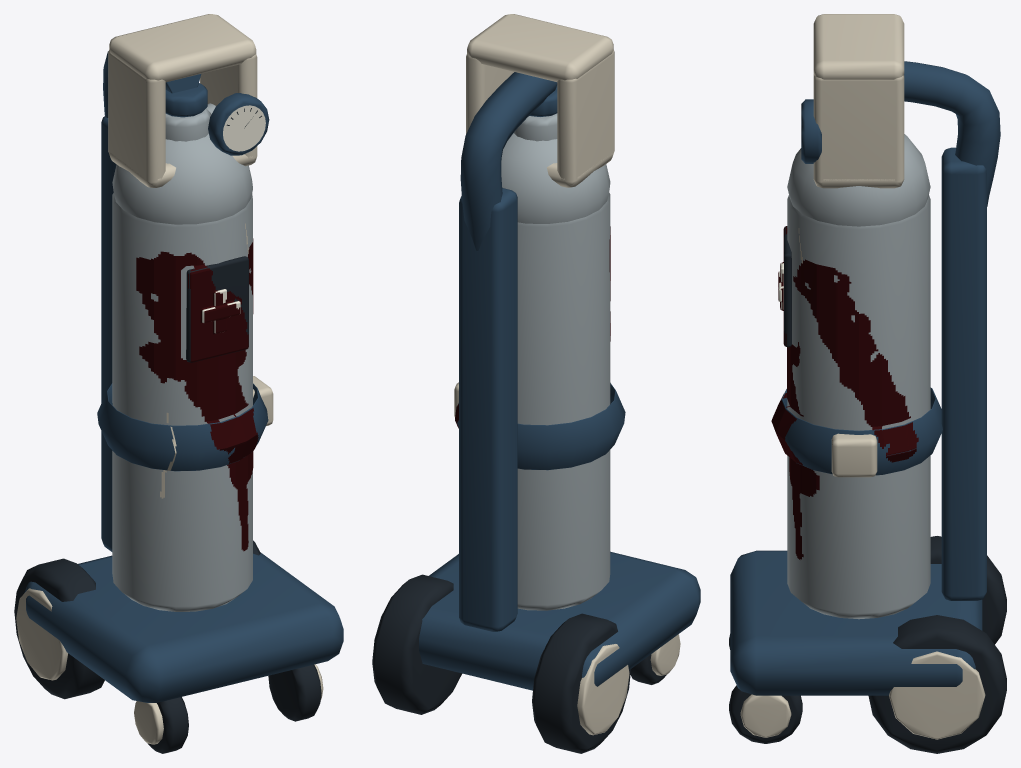
Rendered from medical_gas_cylinder.glb.
3 renders of one model, left to right at view 1: azimuth 30°, elevation 25°; view 2: azimuth 150°, elevation 25°; view 3: azimuth 270°, elevation 25°, orthographic.
Parts seen in each view (by area): view 1: medical_gas_cylinder_Outbreak_Static; view 2: medical_gas_cylinder_Outbreak_Static; view 3: medical_gas_cylinder_Outbreak_Static.
Part boxes in pixels (x1,y1,x2,y2): medical_gas_cylinder_Outbreak_Static: (14, 14, 343, 753); medical_gas_cylinder_Outbreak_Static: (372, 14, 700, 753); medical_gas_cylinder_Outbreak_Static: (729, 14, 1006, 753).
Size of the model in its own units: 0.39 by 1.15 by 0.43.
